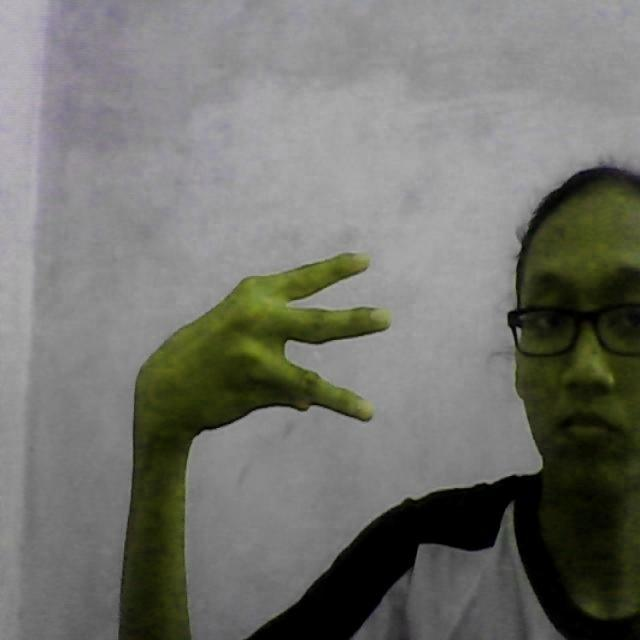E: (128, 245, 395, 453)
